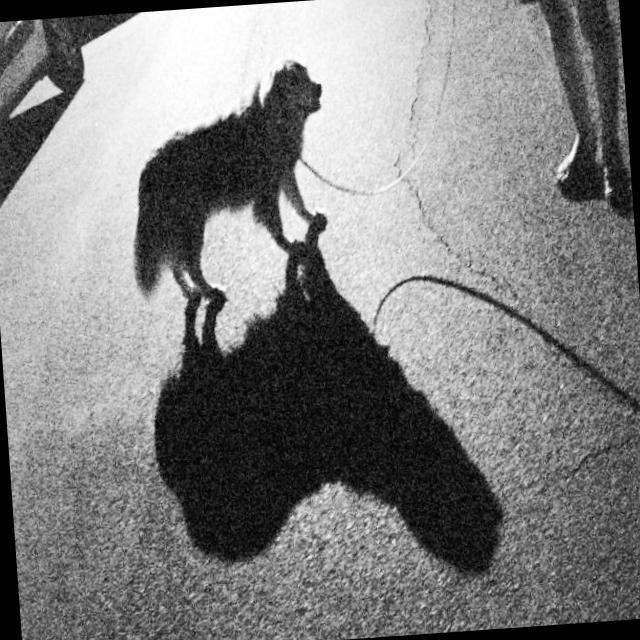Dog: (124, 55, 338, 316)
